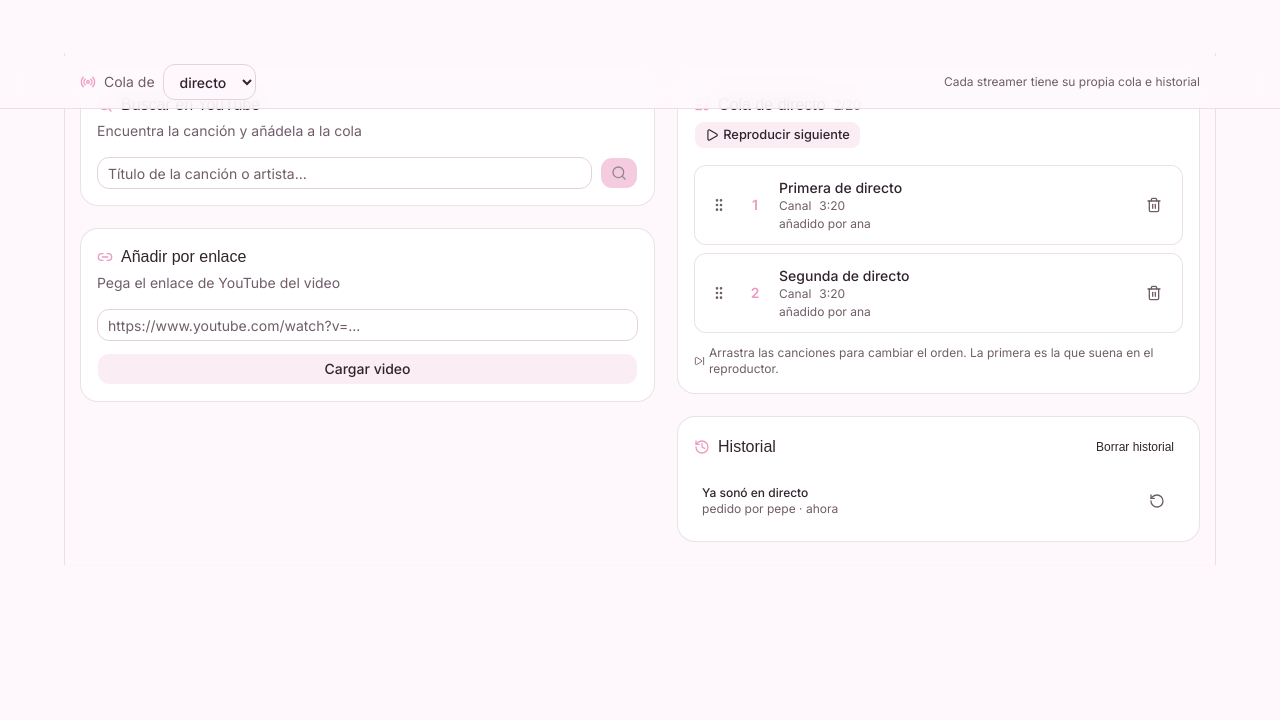
Test: panel de moderadores › borra el historial del streamer seleccionado
Expected: the text "Ya sonó en directo" is shown, [702,485,808,500]
Click the button "Borrar historial". click: (1135, 447)
box: [1087,433,1183,461]
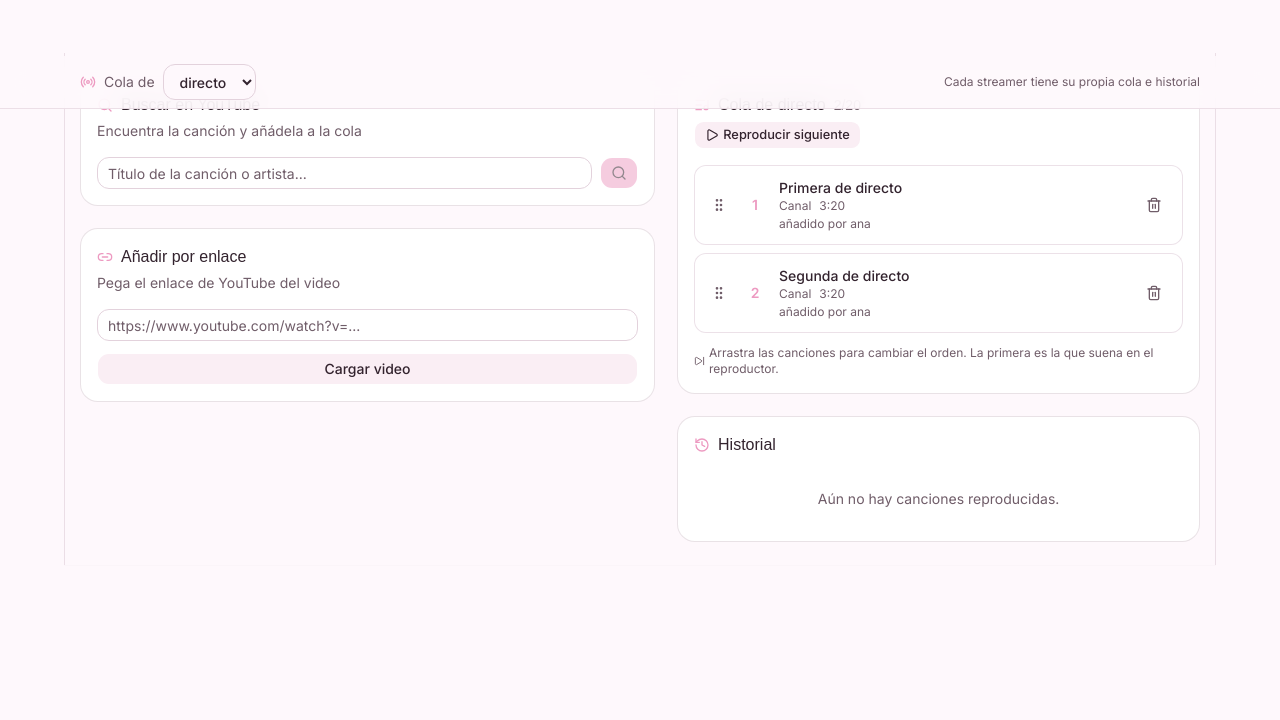
Expected: the text "Aún no hay canciones reproducidas." is shown, [818,490,1059,507]
